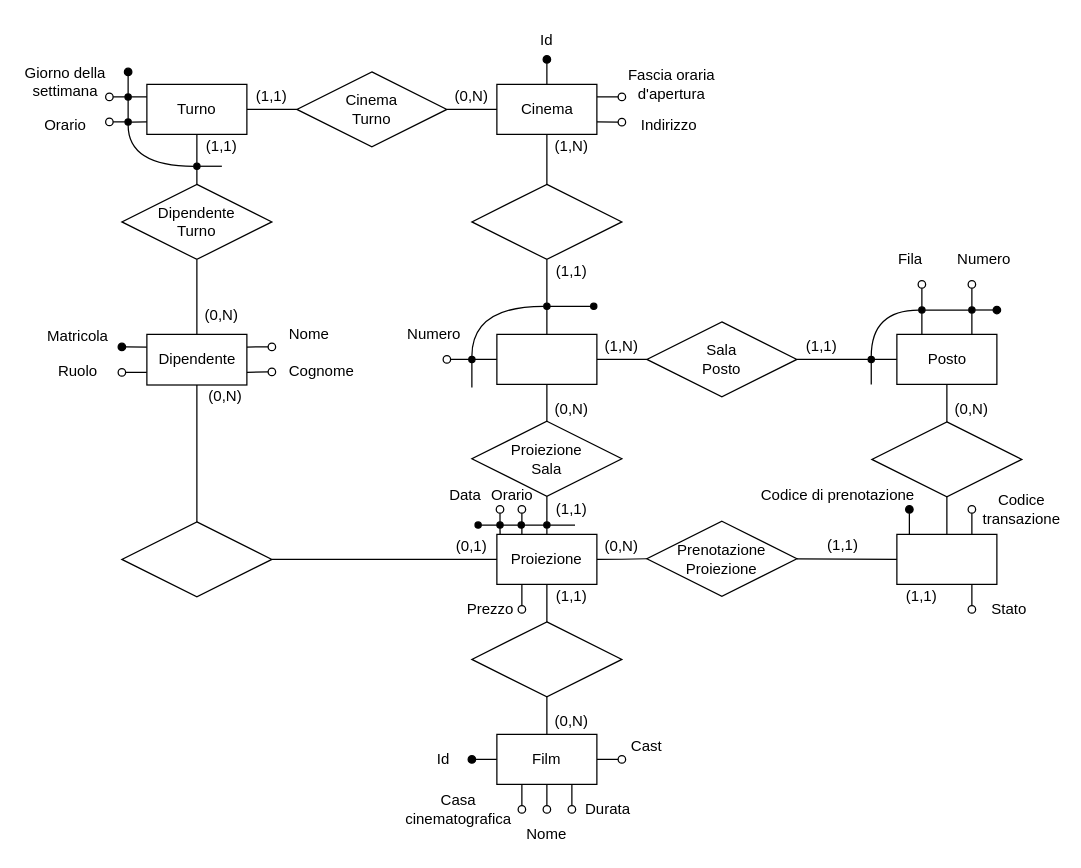
Image size: 1081x868. Some labels were removed from this diagram. Each missing label, with the centre of its shape:
Cinema Sala: point (546, 221)
Film Proiezione: point (546, 659)
Posto Prenotazione: point (946, 459)
Prenotazione: point (946, 558)
Proiezione Proiezionista: point (196, 559)
Sala: point (546, 358)
